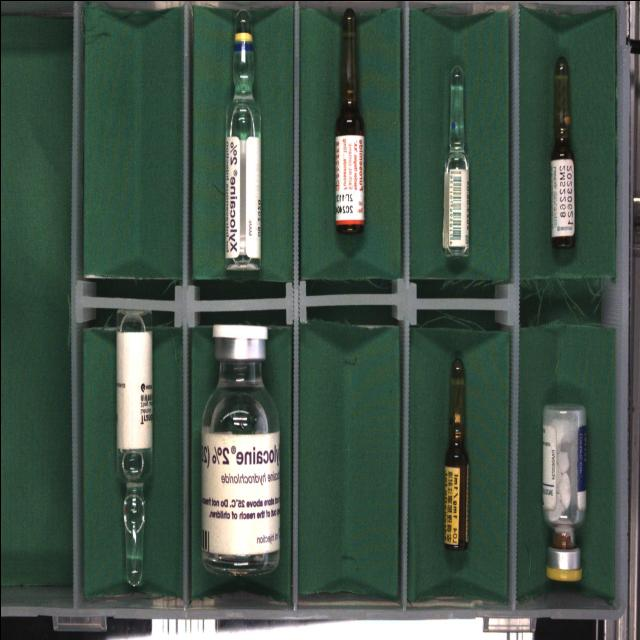Vials: (201, 323, 279, 574), (541, 403, 587, 581)
